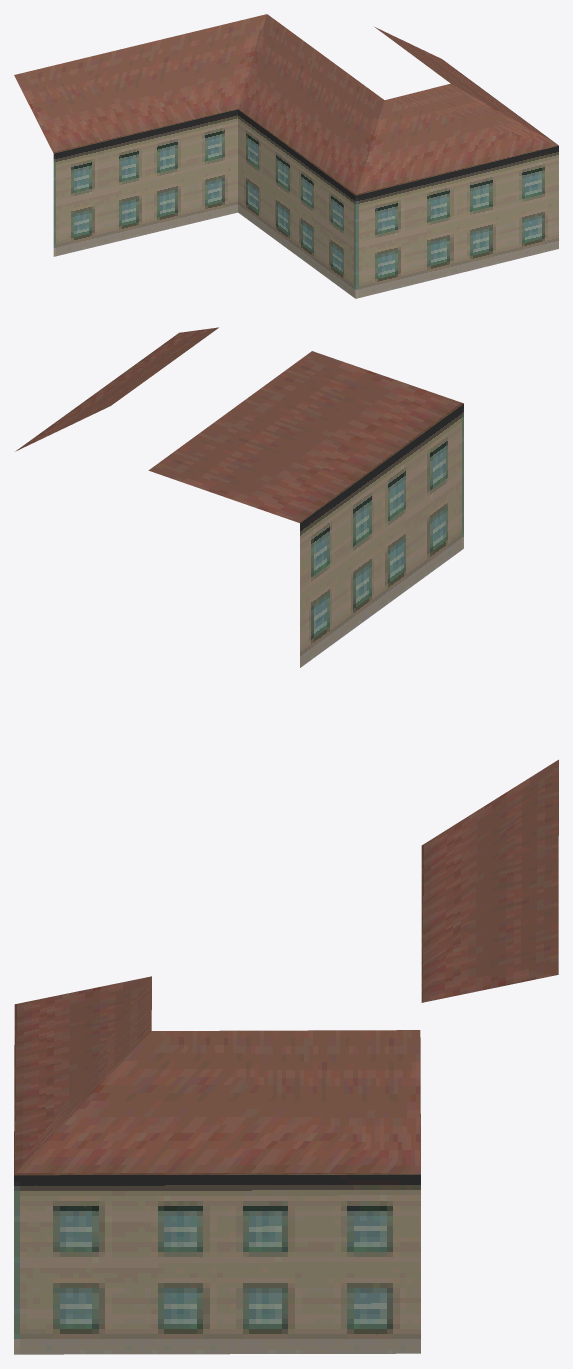
File: AApart04.glb
3 renders of one model, top to bottom at view 1: azimuth 30°, elevation 25°; view 2: azimuth 150°, elevation 25°; view 3: azimuth 270°, elevation 25°, orthographic. The views are drawn at different scales.
Parts seen in each view (by area): view 1: AApart04; view 2: AApart04; view 3: AApart04.
Part boxes in pixels (bbox=[...]): AApart04: bbox=[14, 14, 558, 298]; AApart04: bbox=[15, 327, 463, 667]; AApart04: bbox=[14, 759, 558, 1354].
Size of the model in its own units: 4931 by 1871 by 3453.
1 material, 1 textured.
